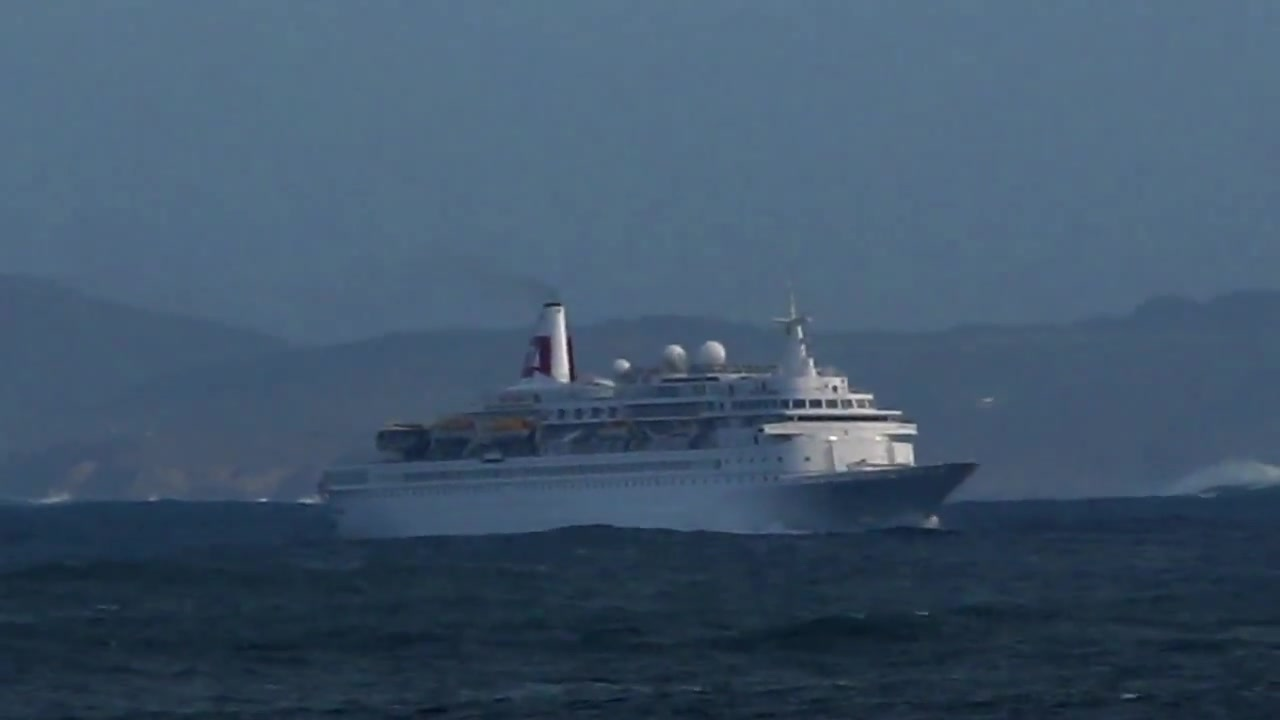boat: (315, 286, 983, 544)
